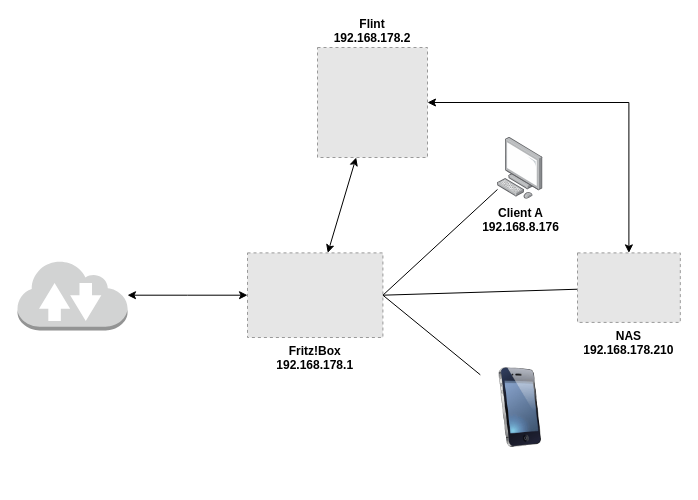
This 698x500 diagram has some shape labels left out. Grey dashed boxes stand in for pictures. The centre of each missing label's shape, as x and y in pixels:
"Client B 192.168.8.219" goes at point 520,407.
"Internet" goes at point 72,294.
